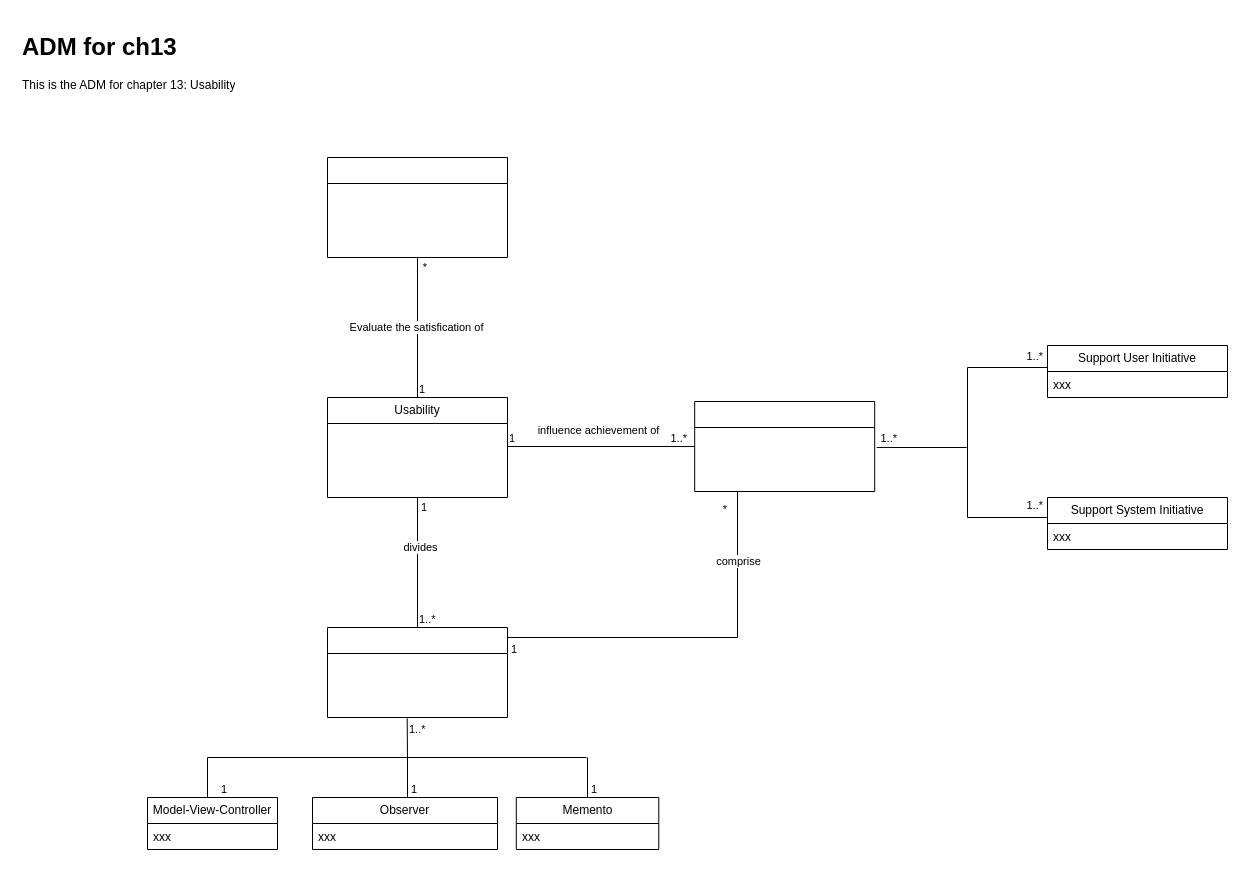
Some shapes in this 1245 by 869 pixel diagram are drawn without their labels. The centre of each missing label's shape, as x and y in pixels:
"Patterns" goes at point 417,672.
"Tactic-Based Questionnaries" goes at point 417,207.
"Usability Tactics" goes at point 784,446.
